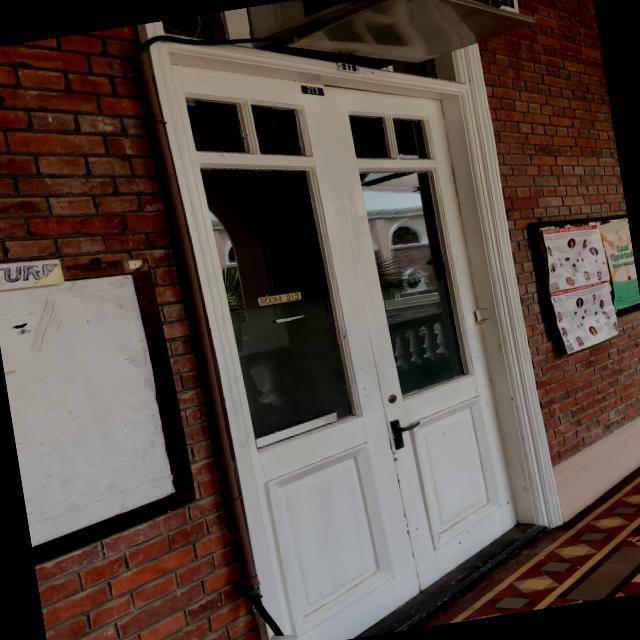room213: (298, 80, 327, 100)
room213Window: (248, 283, 314, 311)
